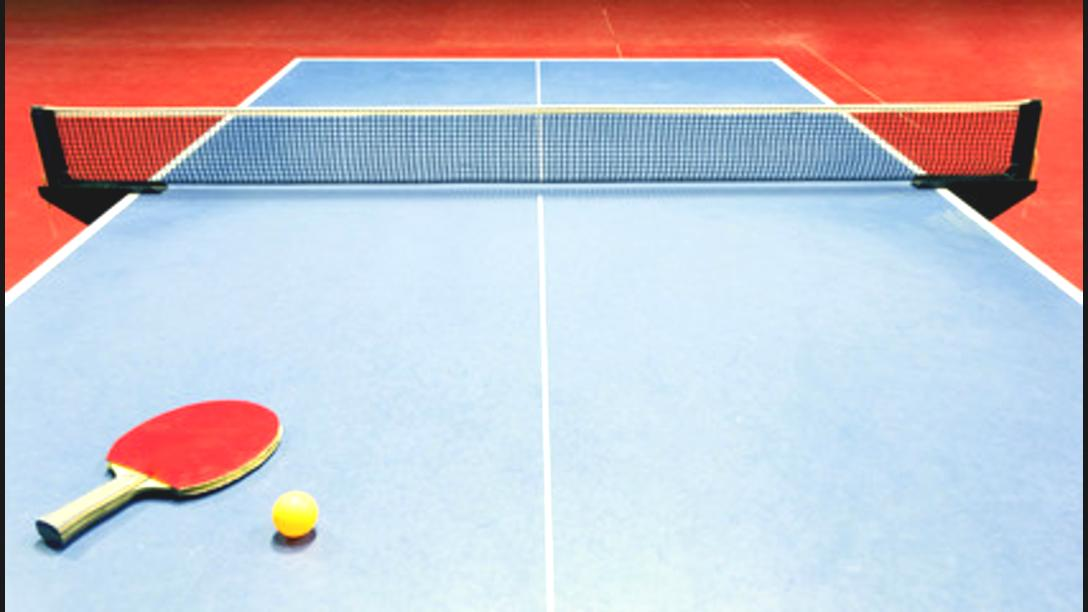Table-Tennis-Ball: (273, 492, 317, 536)
